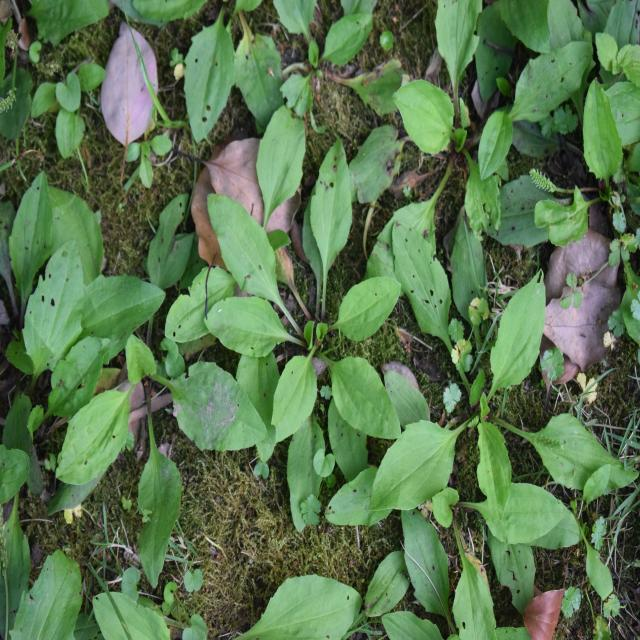plantain: (11, 229, 246, 558), (215, 182, 412, 450), (373, 270, 570, 535)
